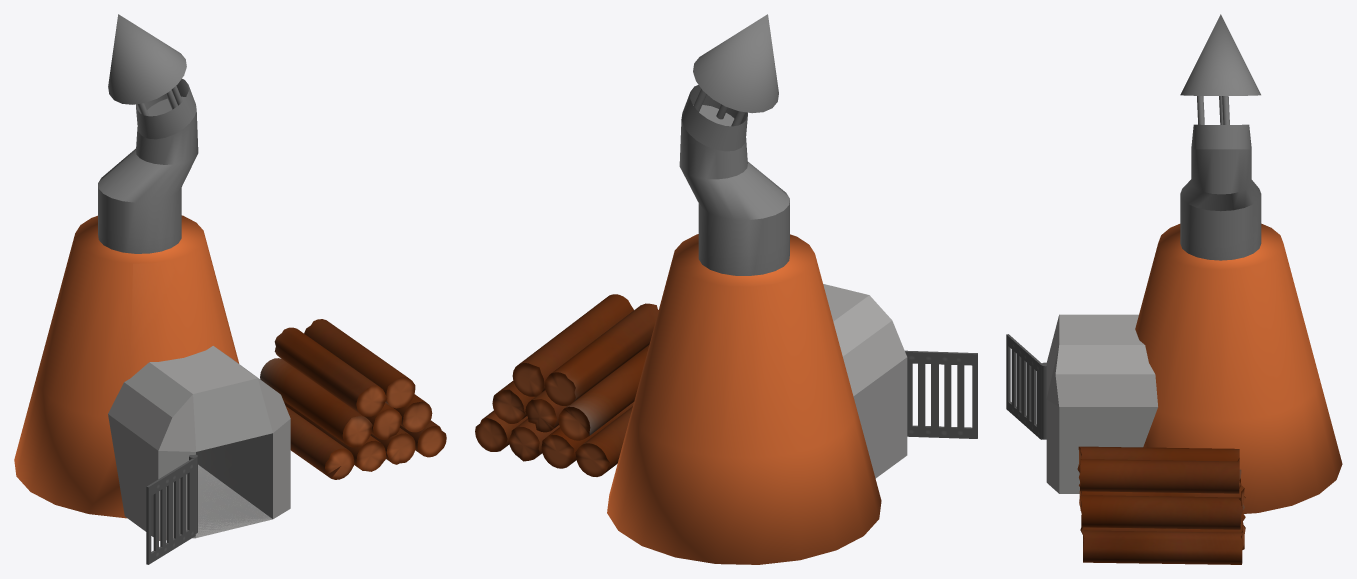
The model's file is furnas3d.fbx.
3 renders of one model, left to right at view 1: azimuth 30°, elevation 25°; view 2: azimuth 150°, elevation 25°; view 3: azimuth 270°, elevation 25°, orthographic. The views are drawn at different scales.
Visible parts, largest first — view 1: pCylinder1, pCube1, pCylinder16, pCone2, pCube2; view 2: pCylinder1, pCylinder16, pCone2, pCube1, pCube2; view 3: pCylinder1, pCylinder16, pCube1, pCone2, pCube2, pCylinder15.
Boxes of the visible parts, left/top/right/bottom form: pCylinder1: left=14, top=215, right=239, bottom=518; pCube1: left=108, top=346, right=290, bottom=540; pCylinder16: left=260, top=319, right=446, bottom=479; pCone2: left=98, top=14, right=198, bottom=253; pCube2: left=146, top=458, right=195, bottom=564; pCylinder1: left=607, top=234, right=881, bottom=564; pCylinder16: left=475, top=294, right=658, bottom=476; pCone2: left=679, top=14, right=789, bottom=275; pCube1: left=823, top=284, right=907, bottom=478; pCube2: left=905, top=350, right=977, bottom=438; pCylinder1: left=1135, top=223, right=1342, bottom=513; pCylinder16: left=1077, top=446, right=1245, bottom=564; pCube1: left=1046, top=314, right=1157, bottom=493; pCone2: left=1180, top=14, right=1261, bottom=260; pCube2: left=1006, top=334, right=1042, bottom=439; pCylinder15: left=1041, top=362, right=1046, bottom=439.
Bounding box in the file's own units: 9.45 × 11.96 × 8.28.
